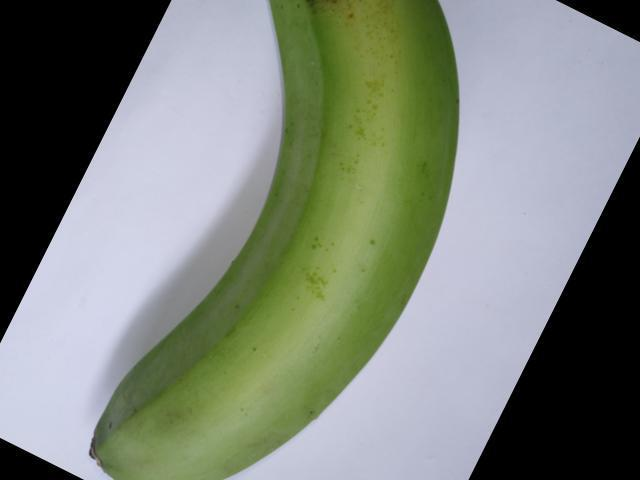freshunripe: (78, 0, 476, 479)
